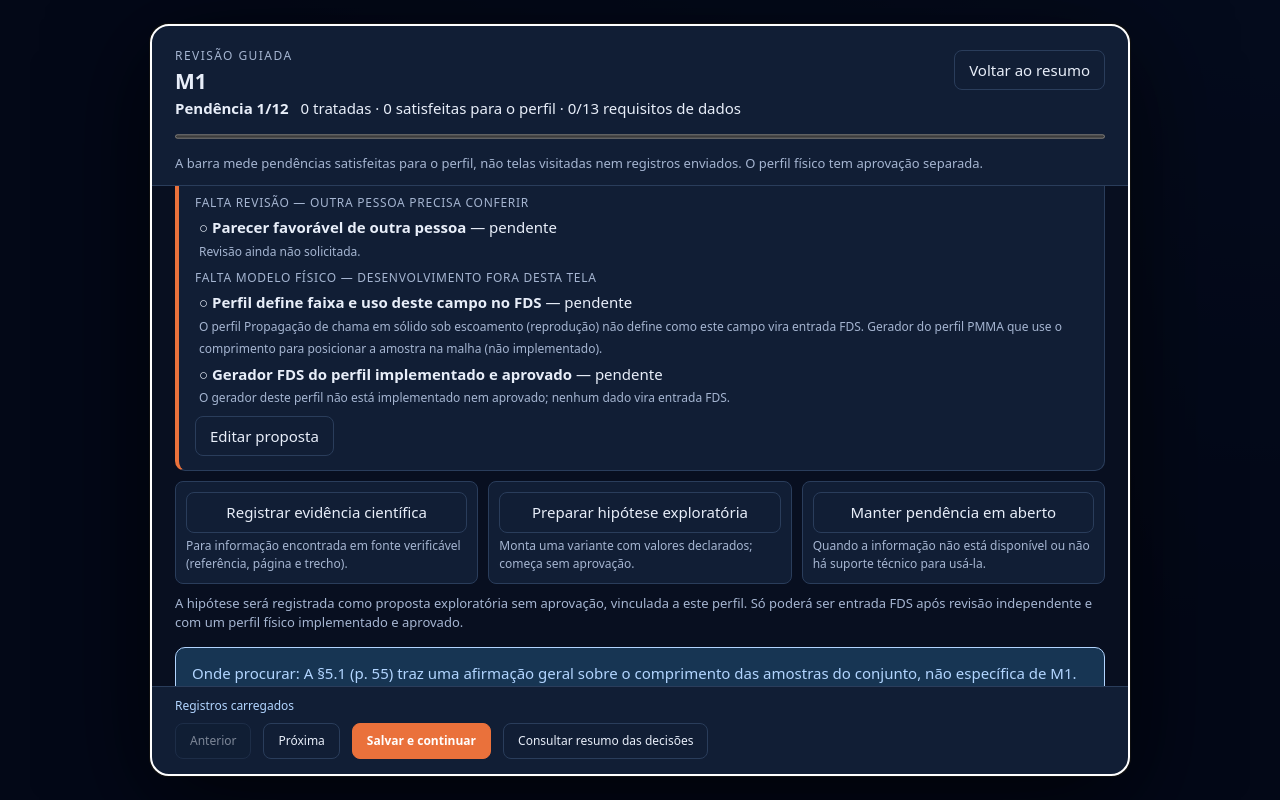
Test: editar uma proposta existente exige motivo e preserva o histórico
(page scrolled)
Click the button "Editar proposta": (264, 436) [195,416,334,456]
(page scrolled)
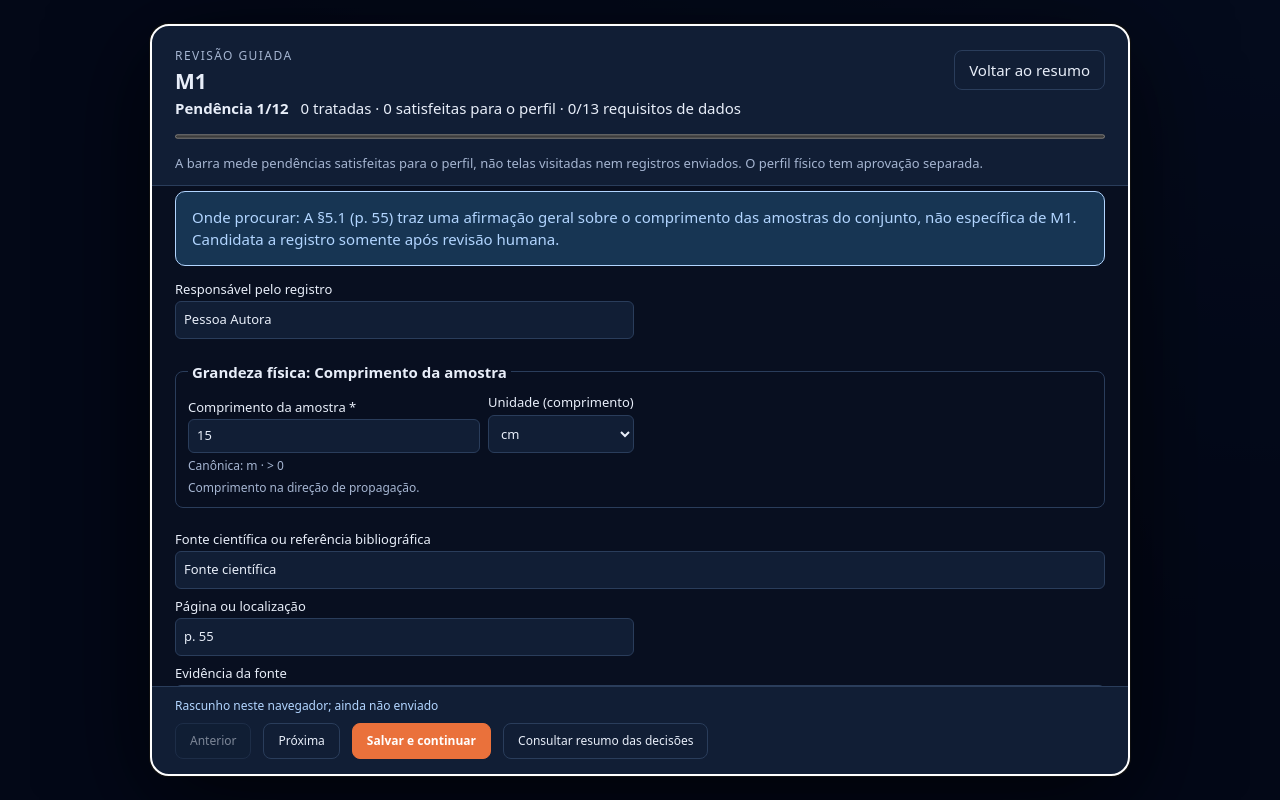
Expected: the number field labelled "Comprimento da amostra *" holds "15"
Replace the text in the number field labelled "Comprimento da amostra *" with "16": (334, 436) [188,419,480,452]
(page scrolled)
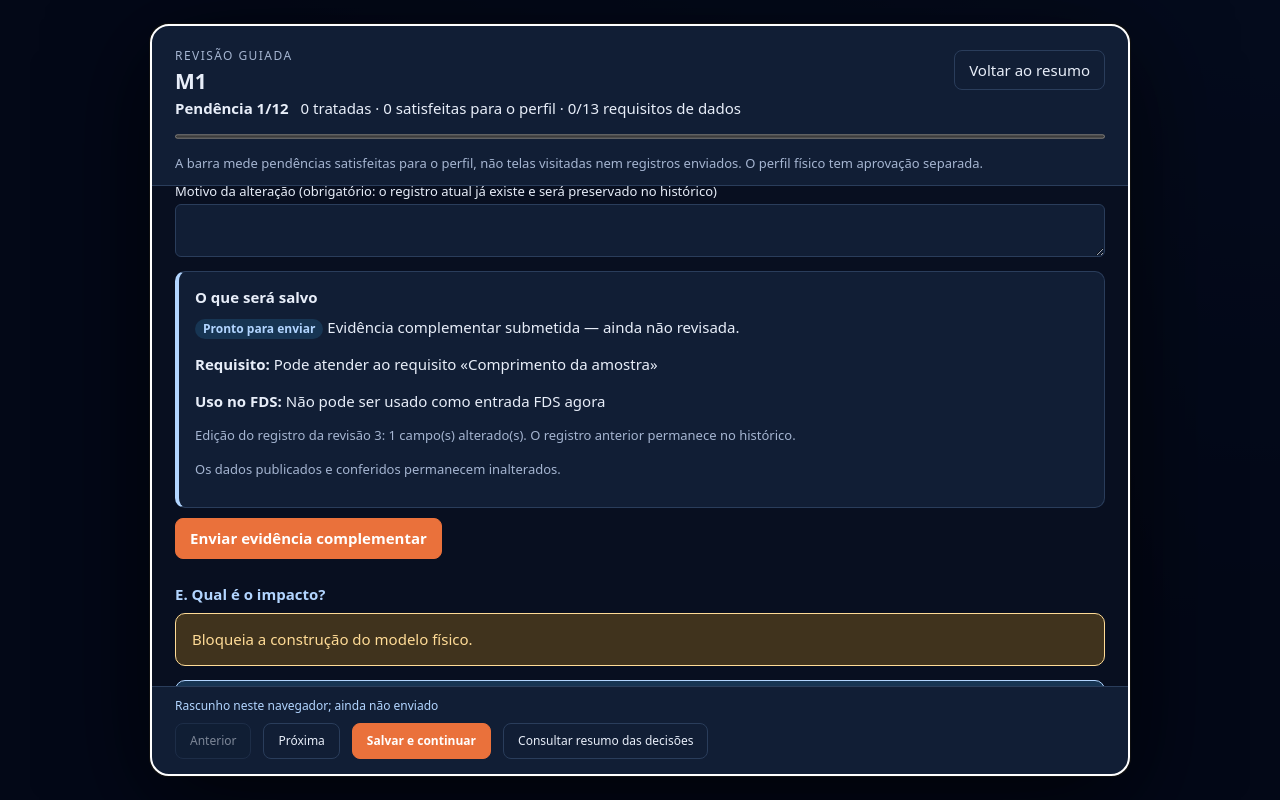
Expected: the text "Edição do registro da revisão 3: 1 campo" is shown, [195,426,796,444]
